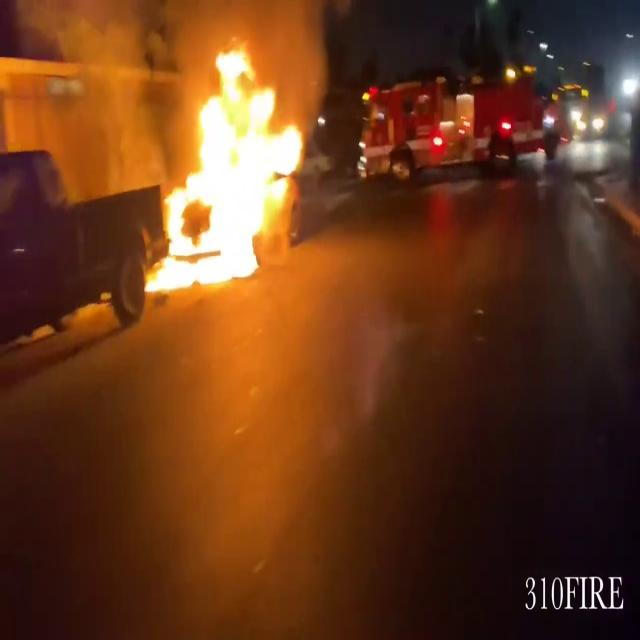Fire: (142, 39, 313, 300)
